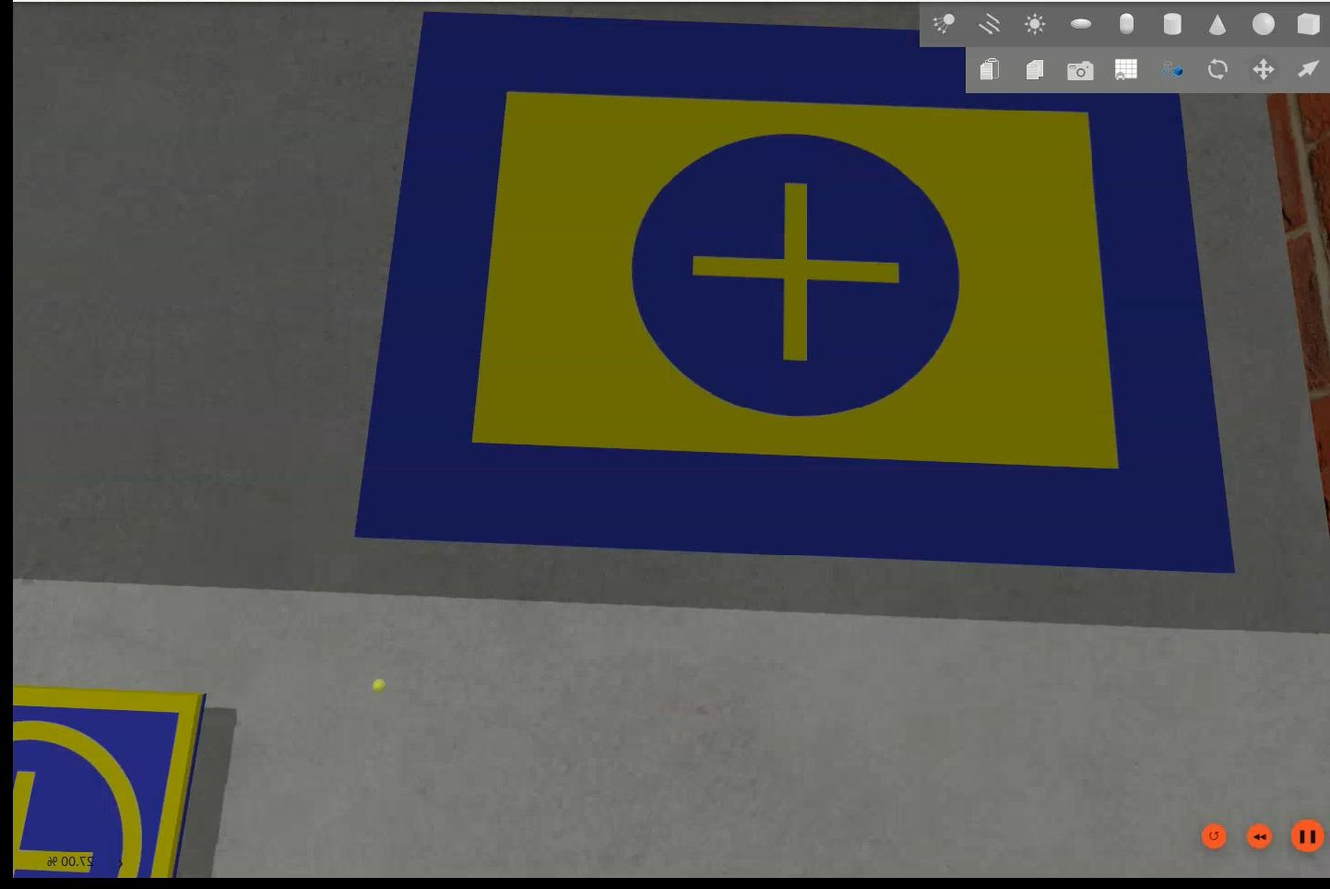large_base: (352, 15, 1231, 575)
small_base: (10, 683, 203, 880)
